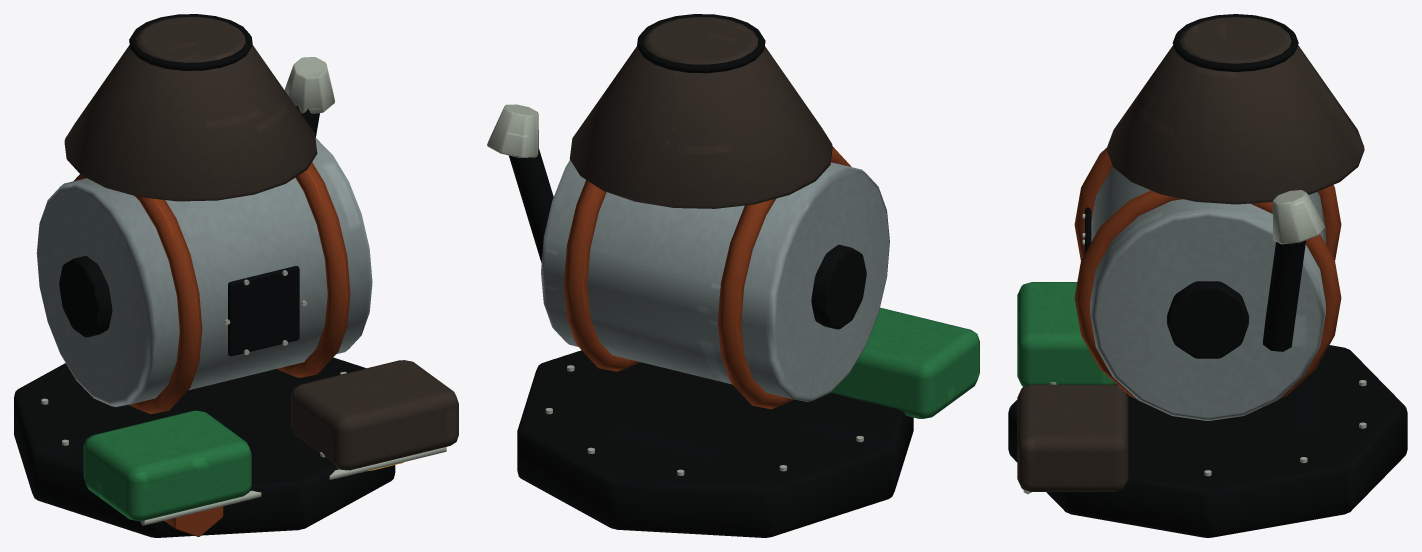
Rendered from processor-standard.glb.
3 views of the same model, side by side, from view 1: azimuth 30°, elevation 25°; view 2: azimuth 150°, elevation 25°; view 3: azimuth 270°, elevation 25° (orthographic). The views are drawn at different scales.
Visible parts, largest first — view 1: ANIM_DRUM, Processor_Hopper, Processor_Base, STATE_EARTH_TRAY, STATE_DUST_TRAY, Processor_Drum_Ring_A, Processor_Access_Panel, Processor_Drum_Ring_B, Processor_Bearing_-1, Processor_Exhaust_Shroud, Processor_Hopper_Rim, Processor_Tray_Rail (+1 smaller); view 2: Processor_Base, ANIM_DRUM, Processor_Hopper, STATE_EARTH_TRAY, Processor_Drum_Ring_A, Processor_Drum_Ring_B, Processor_Bearing_-1, Processor_Exhaust, Processor_Exhaust_Shroud, Processor_Hopper_Rim; view 3: Processor_Base, ANIM_DRUM, Processor_Hopper, STATE_DUST_TRAY, STATE_EARTH_TRAY, Processor_Drum_Ring_B, Processor_Bearing_1, Processor_Exhaust, Processor_Drum_Ring_A, Processor_Exhaust_Shroud, Processor_Hopper_Rim.
Part boxes in pixels (left/top/right/bottom): ANIM_DRUM: left=36, top=137, right=372, bottom=406; Processor_Hopper: left=64, top=16, right=317, bottom=201; Processor_Base: left=14, top=357, right=395, bottom=537; STATE_EARTH_TRAY: left=83, top=410, right=251, bottom=520; STATE_DUST_TRAY: left=291, top=360, right=458, bottom=470; Processor_Drum_Ring_A: left=73, top=174, right=202, bottom=413; Processor_Access_Panel: left=228, top=266, right=299, bottom=356; Processor_Drum_Ring_B: left=277, top=162, right=350, bottom=377; Processor_Bearing_-1: left=59, top=256, right=112, bottom=337; Processor_Exhaust_Shroud: left=284, top=57, right=334, bottom=113; Processor_Hopper_Rim: left=129, top=14, right=252, bottom=70; Processor_Tray_Rail: left=140, top=447, right=446, bottom=525; Processor_Base: left=517, top=350, right=913, bottom=537; ANIM_DRUM: left=541, top=160, right=889, bottom=401; Processor_Hopper: left=569, top=16, right=832, bottom=208; STATE_EARTH_TRAY: left=831, top=307, right=979, bottom=418; Processor_Drum_Ring_A: left=717, top=146, right=851, bottom=409; Processor_Drum_Ring_B: left=564, top=180, right=640, bottom=371; Processor_Bearing_-1: left=811, top=244, right=866, bottom=329; Processor_Exhaust: left=508, top=148, right=553, bottom=262; Processor_Exhaust_Shroud: left=487, top=104, right=538, bottom=157; Processor_Hopper_Rim: left=637, top=14, right=765, bottom=73; Processor_Base: left=1008, top=345, right=1407, bottom=537; ANIM_DRUM: left=1090, top=166, right=1325, bottom=420; Processor_Hopper: left=1107, top=16, right=1364, bottom=204; STATE_DUST_TRAY: left=1017, top=384, right=1128, bottom=491; STATE_EARTH_TRAY: left=1017, top=282, right=1116, bottom=386; Processor_Drum_Ring_B: left=1074, top=190, right=1341, bottom=399; Processor_Bearing_1: left=1167, top=281, right=1248, bottom=358; Processor_Exhaust: left=1263, top=240, right=1305, bottom=351; Processor_Drum_Ring_A: left=1074, top=147, right=1341, bottom=260; Processor_Exhaust_Shroud: left=1272, top=190, right=1325, bottom=244; Processor_Hopper_Rim: left=1172, top=14, right=1298, bottom=71.
Size of the model in its own units: 1.16 by 1.33 by 1.15.
7 materials, 7 textured.
